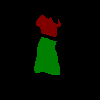camicia: (36, 15, 61, 37)
gonna: (34, 36, 60, 74)
